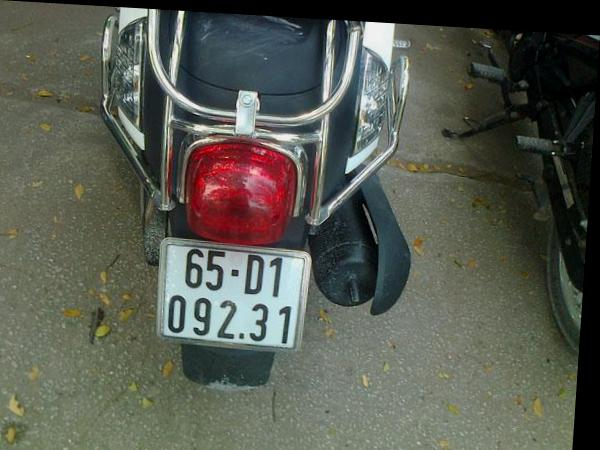License_Plate: (155, 237, 310, 356)
